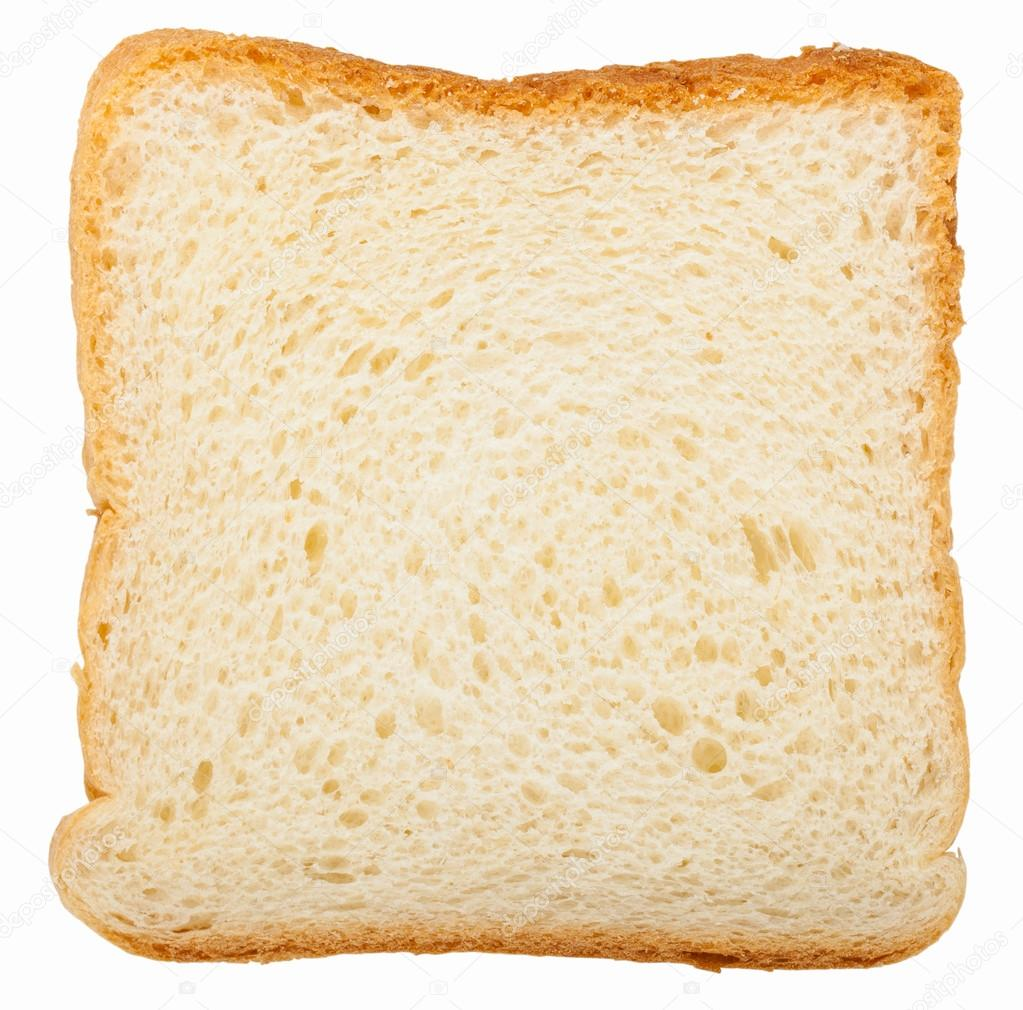slice of bread: (83, 48, 968, 959)
